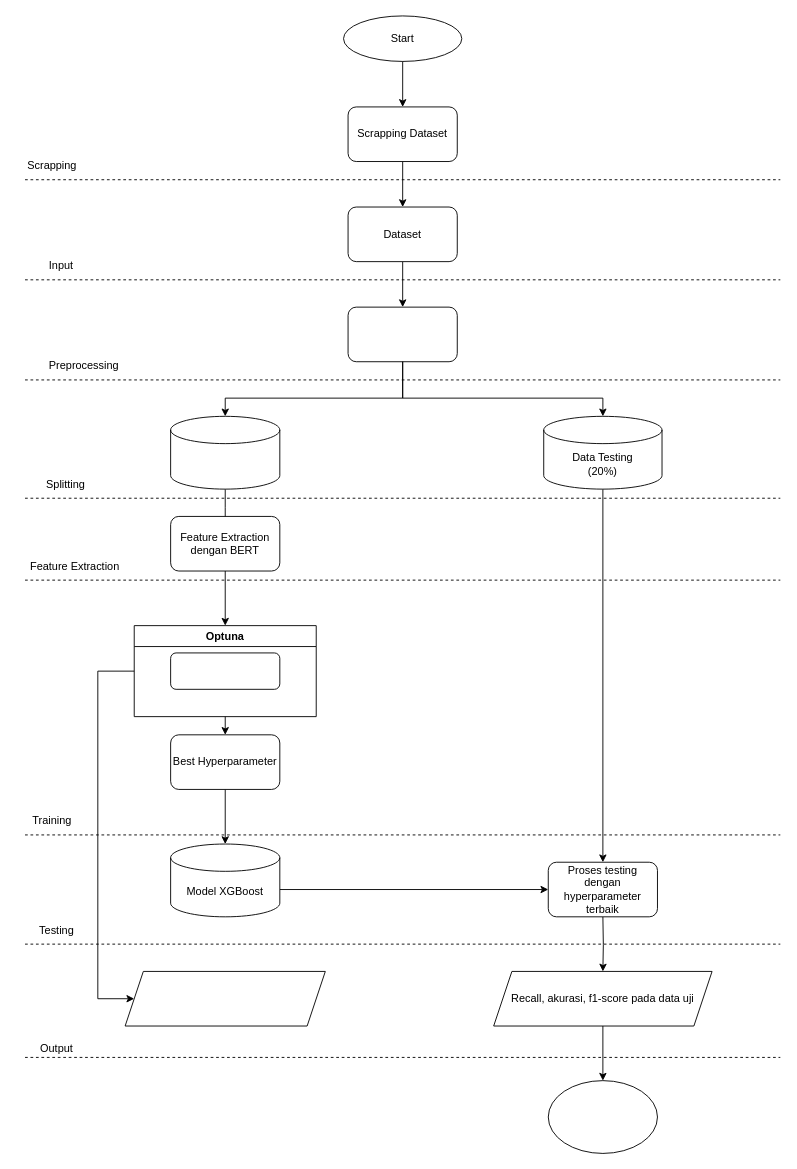
Some shapes in this 797 by 1169 pixel diagram are drawn without their labels. Here are the shapes that lost their labels. From the top down, the centre of each, then its label:
pixel 402 334: Data Preprocessing
pixel 225 452: Data Training (80%)
pixel 225 670: XGBoost
pixel 224 998: Rata-rata hasil evaluasi 5-fold cross validation
pixel 602 1116: End
